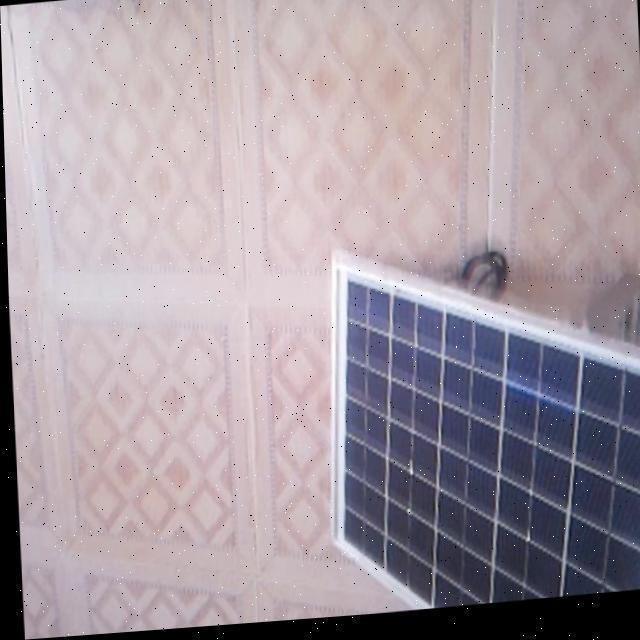Normal Solar Panel: (317, 233, 640, 622)
